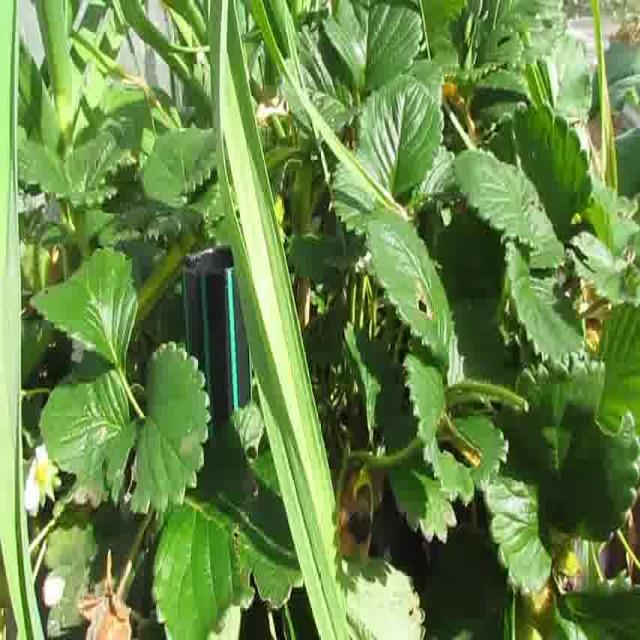Moho gris: (77, 568, 136, 640)
